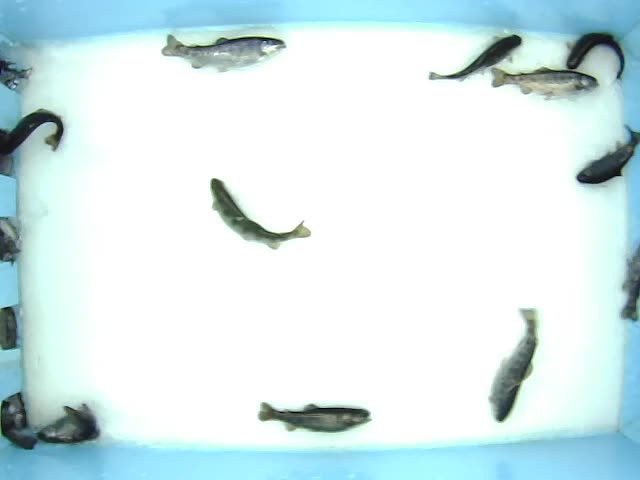fish: (481, 302, 549, 428), (207, 174, 316, 252), (560, 118, 640, 202), (255, 394, 392, 435), (430, 26, 522, 85), (155, 32, 304, 68), (563, 26, 624, 82), (490, 65, 600, 96), (38, 403, 115, 442)
